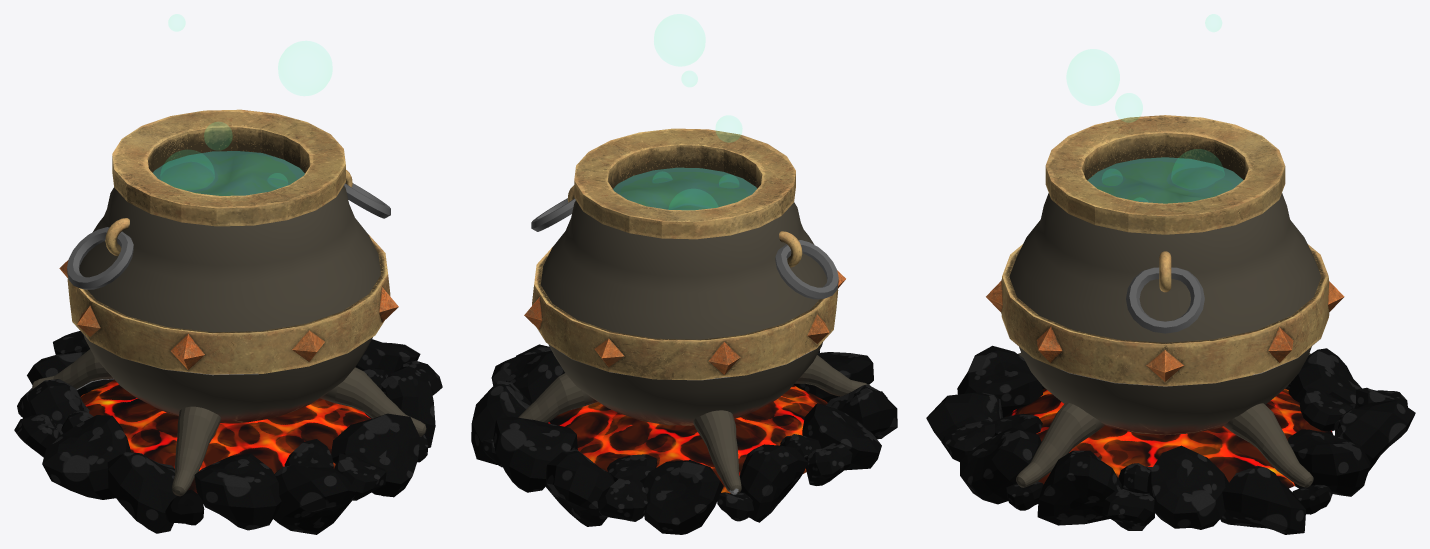
Rendered from stylised_cauldron_of_strange_mixture.glb.
3 renders of one model, left to right at view 1: azimuth 30°, elevation 25°; view 2: azimuth 150°, elevation 25°; view 3: azimuth 270°, elevation 25°, orthographic. The views are drawn at different scales.
Parts seen in each view (by area): view 1: Object_3, Object_4, Object_2; view 2: Object_3, Object_4; view 3: Object_3, Object_4.
Boxes of the visible parts, x1,y1,x2,y2 form: Object_3: [32, 109, 426, 496]; Object_4: [14, 331, 442, 534]; Object_2: [165, 489, 204, 525]; Object_3: [518, 128, 870, 494]; Object_4: [471, 344, 897, 534]; Object_3: [986, 115, 1344, 487]; Object_4: [926, 345, 1415, 534].
Bounding box in the file's own units: 2.91 × 3.15 × 3.09.
Materials: 4 (4 with a texture image).
